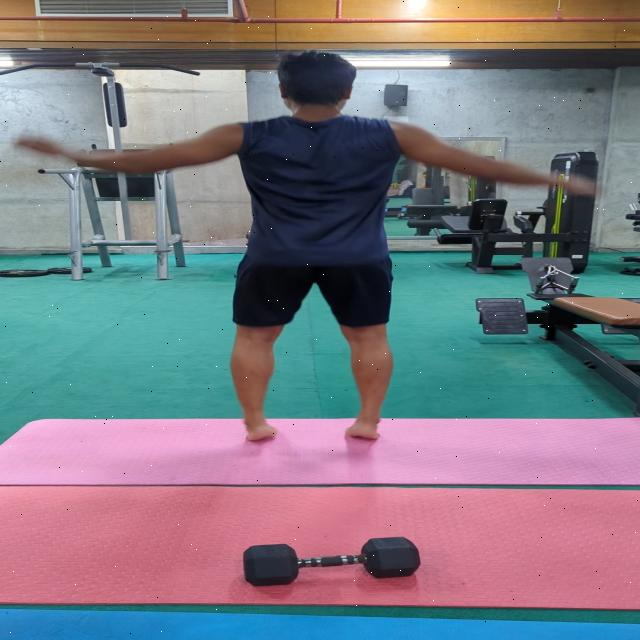Normal_JumpingJacks: (31, 59, 586, 451)
